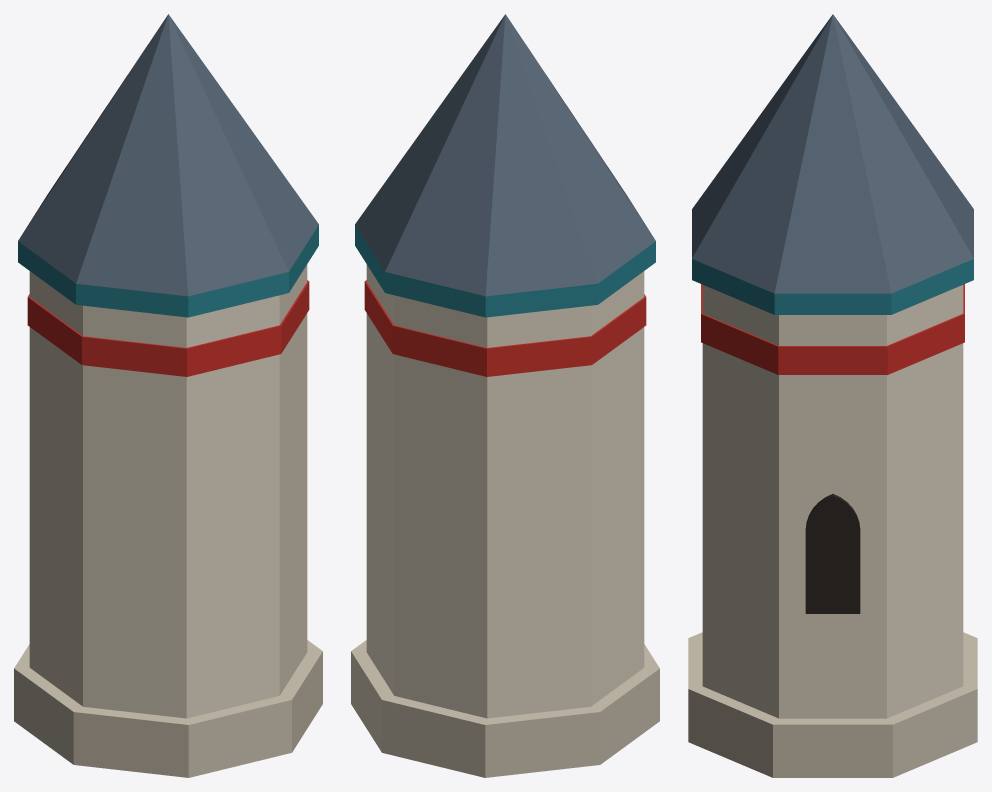
Rendered from kumbet.glb.
3 renders of one model, left to right at view 1: azimuth 30°, elevation 25°; view 2: azimuth 150°, elevation 25°; view 3: azimuth 270°, elevation 25°, orthographic.
Parts seen in each view (by area): view 1: kumbet; view 2: kumbet; view 3: kumbet.
Part boxes in pixels (x1,y1,x2,y2): kumbet: (14, 14, 322, 777); kumbet: (351, 14, 659, 777); kumbet: (688, 14, 977, 777).
Bounding box in the file's own units: 0.7391 × 1.98 × 0.7391.
